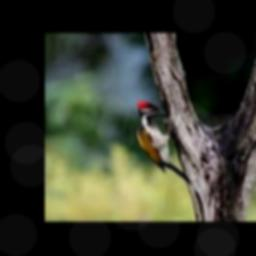Woodpecker: (137, 101, 191, 182)
